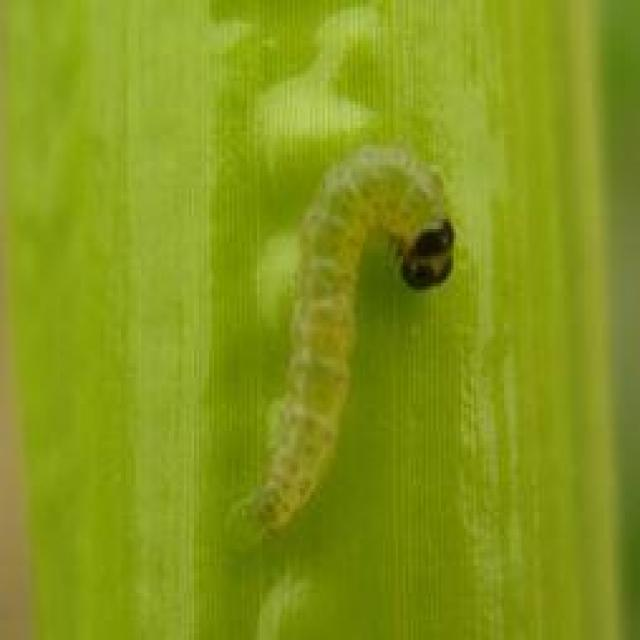BeetArmyWorm-Larva-: (223, 139, 456, 565)
